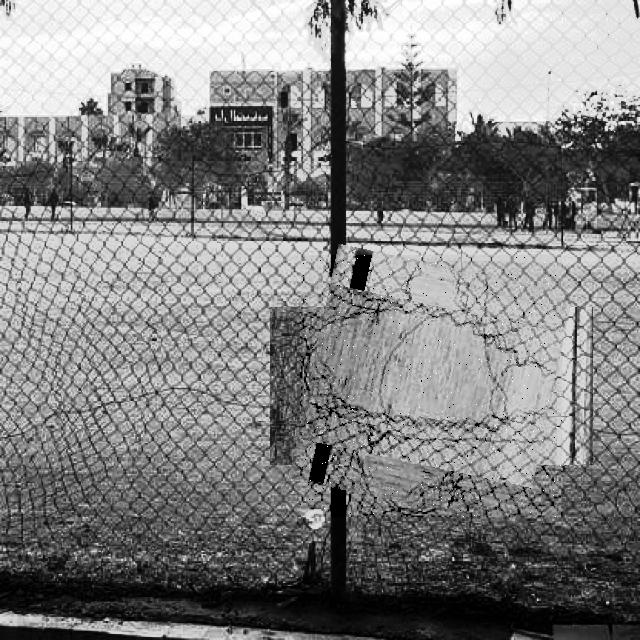anomaly-fence: (300, 255, 562, 517)
